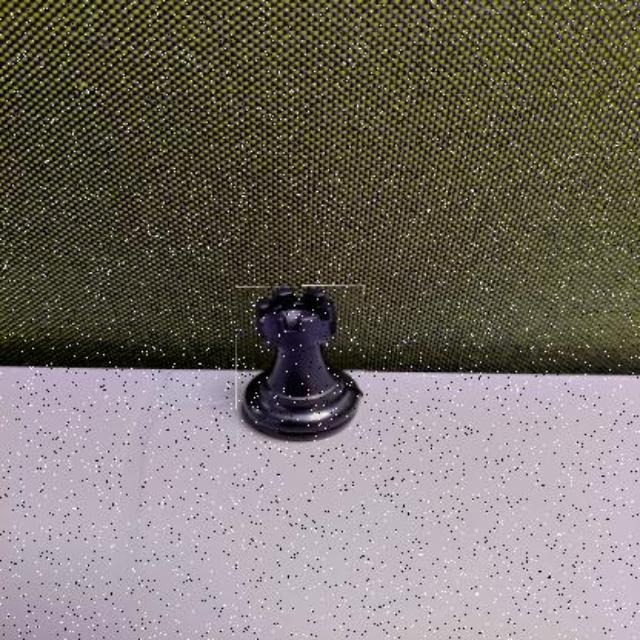black-rook: (237, 286, 367, 444)
